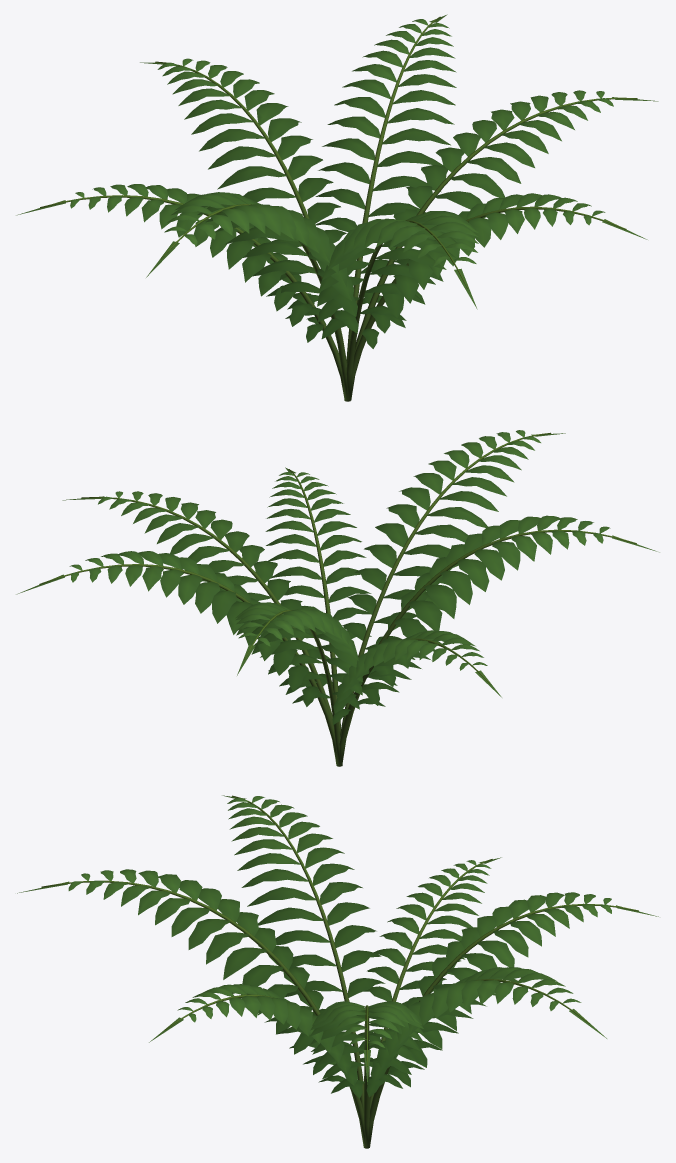
Rendered from forest-fern.glb.
3 views of the same model, one above another, from view 1: azimuth 30°, elevation 25°; view 2: azimuth 150°, elevation 25°; view 3: azimuth 270°, elevation 25° (orthographic). The views are drawn at different scales.
Parts seen in each view (by area): view 1: Fern_Leaflets, Fern_Rachises; view 2: Fern_Leaflets, Fern_Rachises; view 3: Fern_Leaflets, Fern_Rachises.
Boxes of the visible parts, bbox=[...] form: Fern_Leaflets: bbox=[16, 14, 658, 348]; Fern_Rachises: bbox=[40, 16, 637, 401]; Fern_Leaflets: bbox=[16, 430, 659, 724]; Fern_Rachises: bbox=[39, 432, 636, 766]; Fern_Leaflets: bbox=[17, 795, 658, 1098]; Fern_Rachises: bbox=[41, 795, 638, 1148].
Size of the model in its own units: 0.6748 by 0.2993 by 0.6974.
